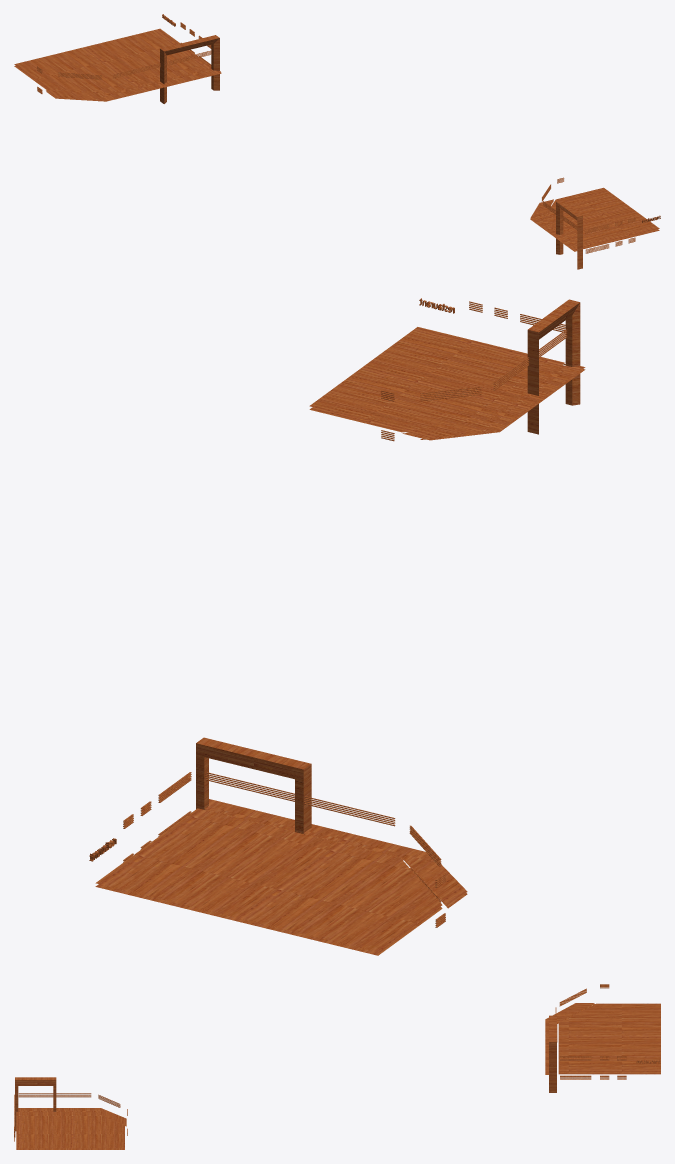
Rendered from Big_restaurant01_Orange.fbx.
3 views of the same model, one above another, from view 1: azimuth 30°, elevation 25°; view 2: azimuth 150°, elevation 25°; view 3: azimuth 270°, elevation 25° (orthographic). The views are drawn at different scales.
Visible parts, largest first — view 1: Big_restaurant01_Orange; view 2: Big_restaurant01_Orange; view 3: Big_restaurant01_Orange.
Boxes of the visible parts, x1,y1,x2,y2 form: Big_restaurant01_Orange: (14, 14, 660, 269); Big_restaurant01_Orange: (89, 298, 585, 955); Big_restaurant01_Orange: (14, 984, 660, 1149).
Size of the model in its own units: 6178 by 1044 by 11310.
Materials: 1 (1 with a texture image).
